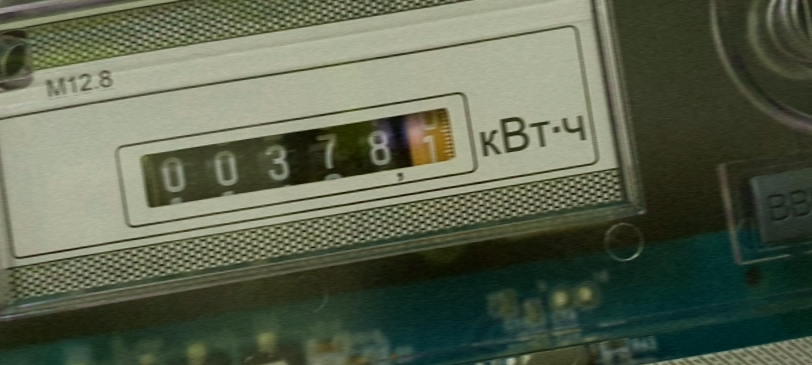0: (158, 151, 190, 194), (211, 146, 240, 187), (416, 107, 440, 132)
1: (418, 130, 441, 164)
3: (261, 140, 292, 183)
7: (313, 130, 341, 171)
8: (364, 125, 393, 168)
screen: (116, 86, 477, 220)
